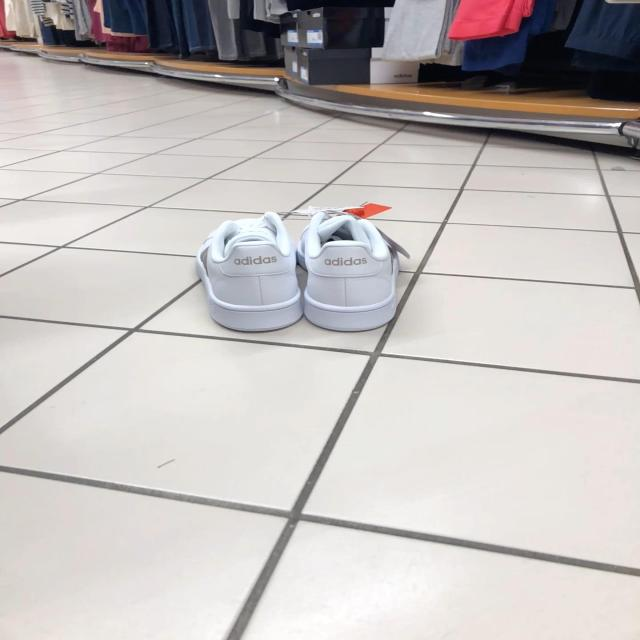shoe: (193, 213, 302, 332), (300, 208, 396, 328)
